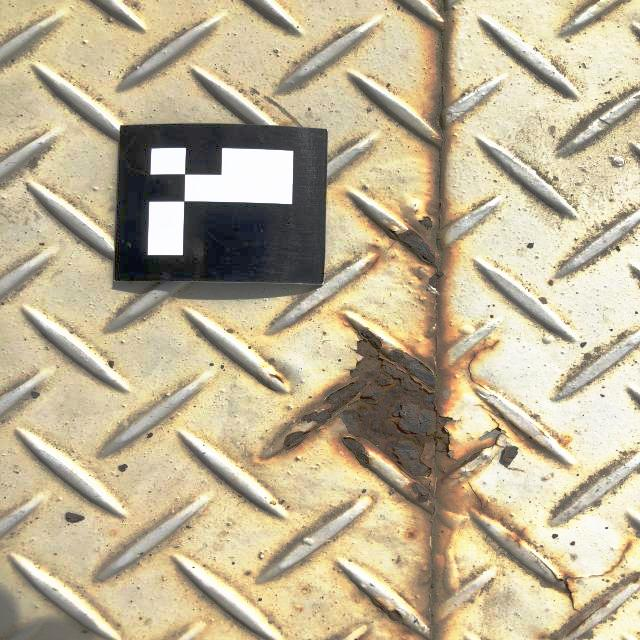Corrosion: (283, 316, 485, 506), (380, 212, 450, 294), (562, 596, 616, 638), (369, 591, 407, 626), (553, 567, 581, 607)
